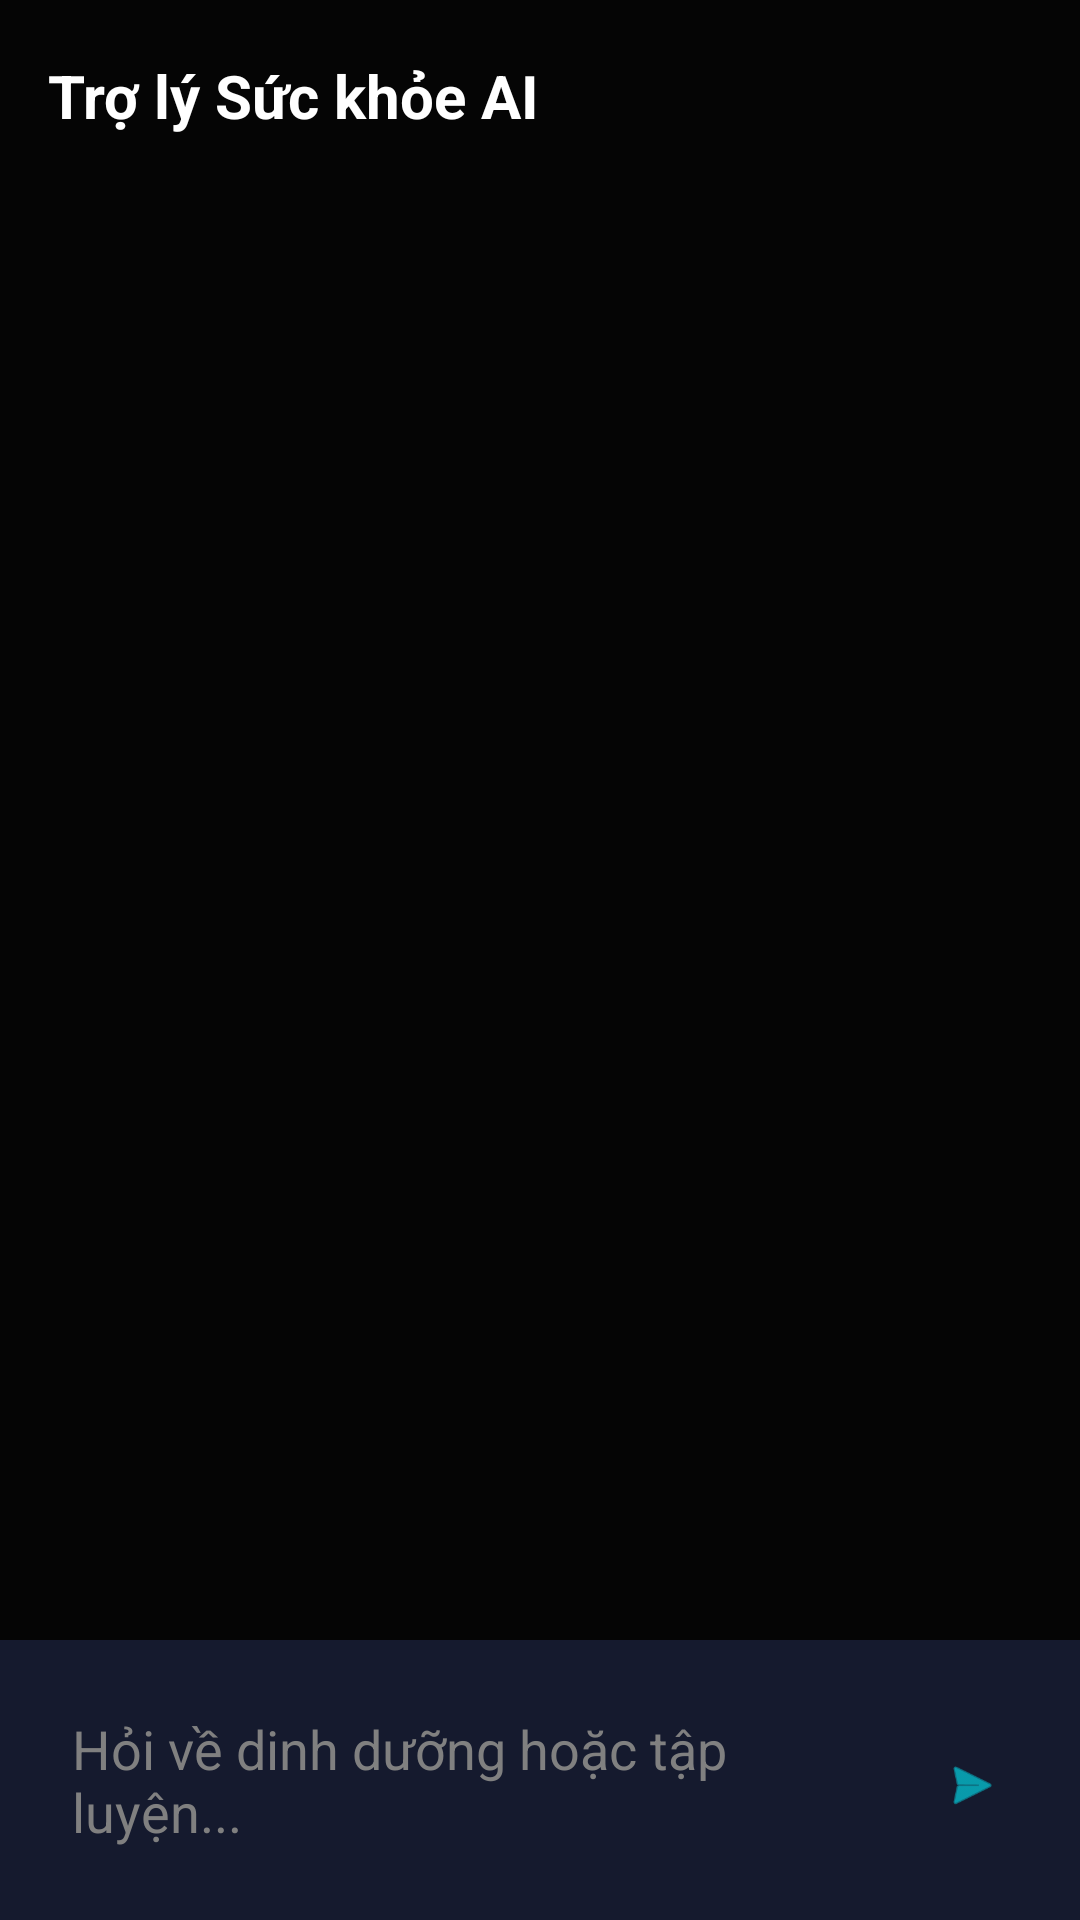

Icons on this 1080*1920 Android screen, each with the point to tap as (x,y):
send: (972,1785)
